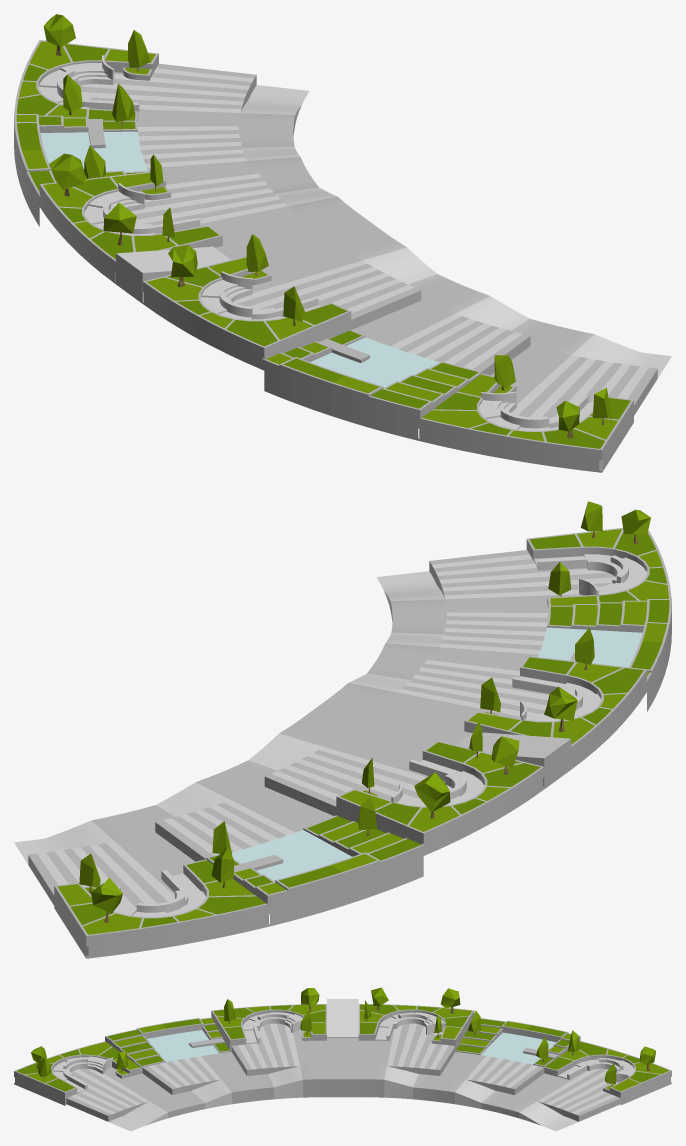
Rendered from ring1_segment_low.glb.
3 renders of one model, top to bottom at view 1: azimuth 30°, elevation 25°; view 2: azimuth 150°, elevation 25°; view 3: azimuth 270°, elevation 25°, orthographic. The views are drawn at different scales.
Visible parts, largest first — view 1: RING_1_MOD_LOW; view 2: RING_1_MOD_LOW; view 3: RING_1_MOD_LOW.
Part boxes in pixels (<box>): RING_1_MOD_LOW: <box>14,14,671,472</box>; RING_1_MOD_LOW: <box>14,501,671,958</box>; RING_1_MOD_LOW: <box>14,987,671,1131</box>.
Bounding box in the file's own units: 3350 × 759 × 8991.
